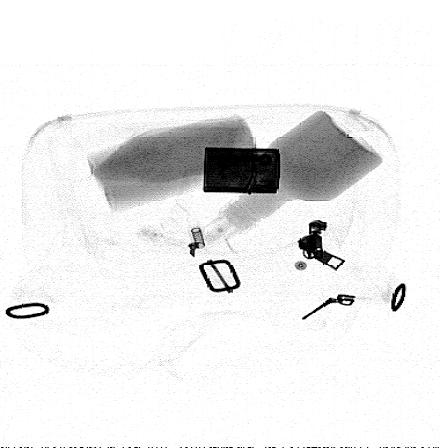Lighter: (202, 147, 282, 195)
